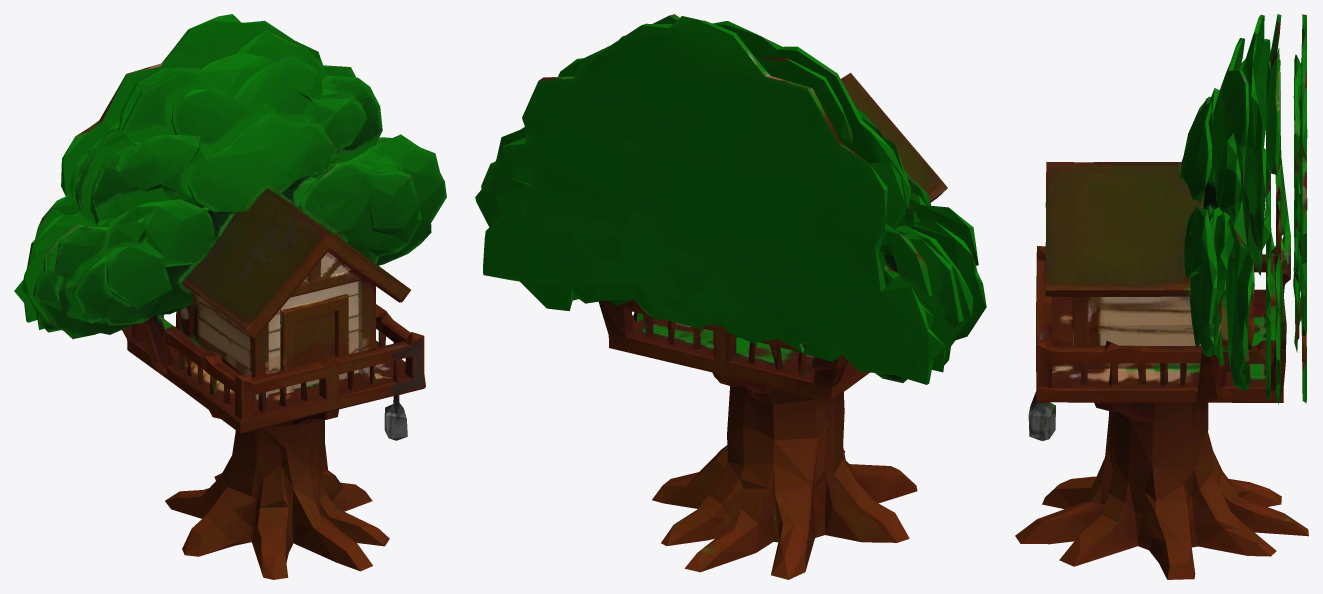
File: treehouse_structure.glb
3 views of the same model, side by side, from view 1: azimuth 30°, elevation 25°; view 2: azimuth 150°, elevation 25°; view 3: azimuth 270°, elevation 25° (orthographic). The views are drawn at different scales.
Bounding box in the file's own units: 1.84 × 1.97 × 1.04.
1 material, 1 textured.
